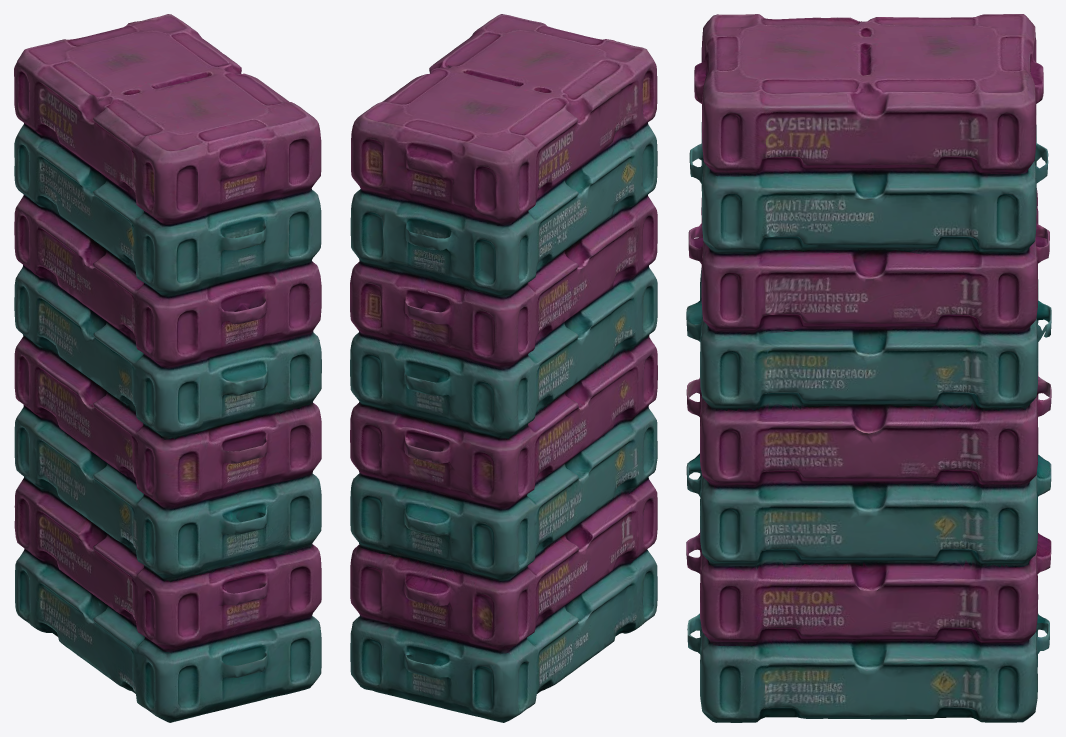
The model's file is crate-stack.glb.
The picture shows the model from 3 angles, left to right: view 1: azimuth 30°, elevation 25°; view 2: azimuth 150°, elevation 25°; view 3: azimuth 270°, elevation 25°; orthographic projection. The views are drawn at different scales.
Parts seen in each view (by area): view 1: input; view 2: input; view 3: input.
Part boxes in pixels (bbox=[...]): input: bbox=[14, 14, 321, 722]; input: bbox=[350, 14, 657, 722]; input: bbox=[686, 14, 1051, 722].
Size of the model in its own units: 0.2913 by 0.96 by 0.5025.
1 material, 1 textured.
